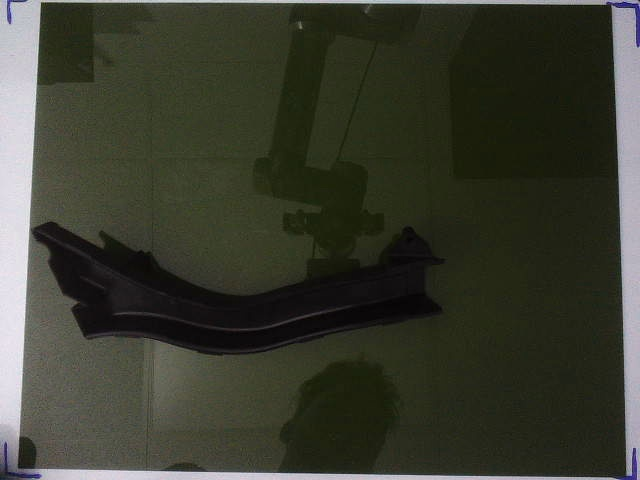887_A-Under: (33, 222, 445, 353)
